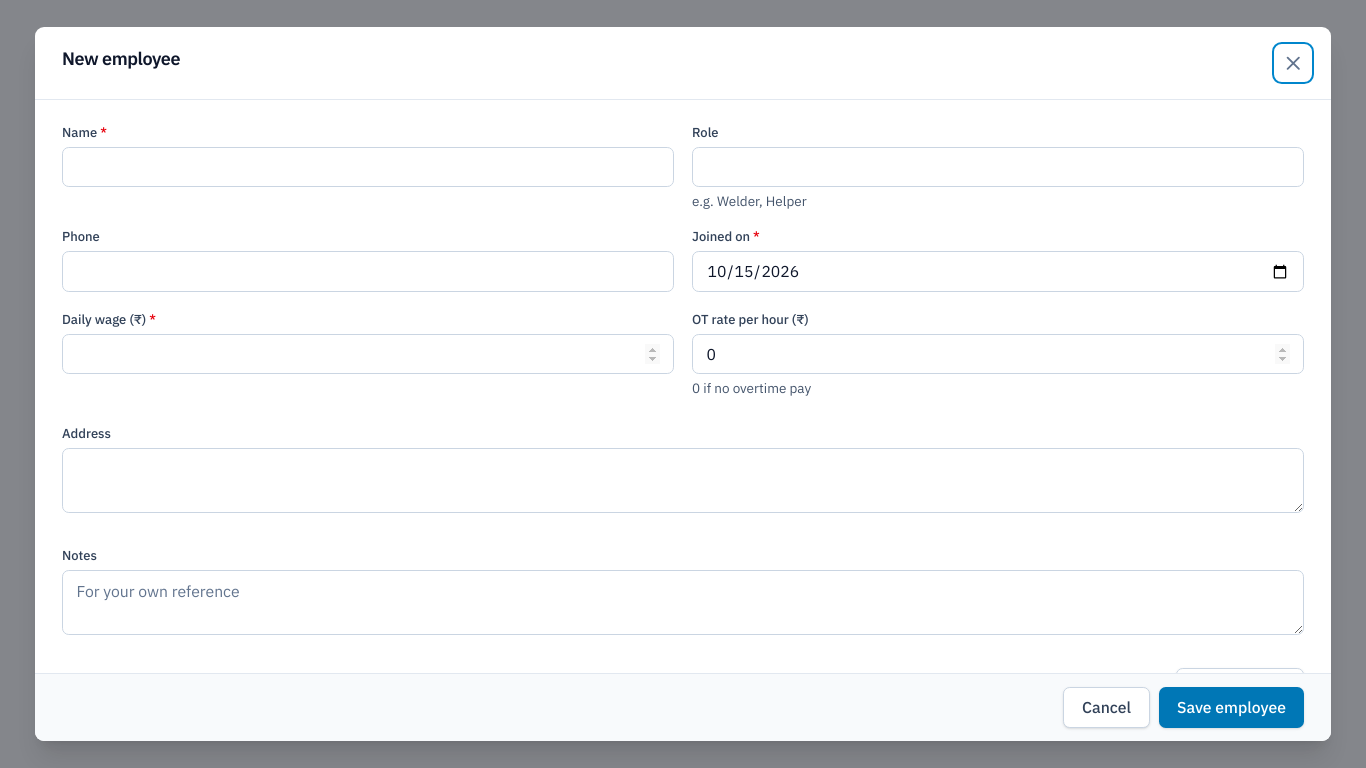
Test: a new employee › refuses {"joined":""}
The image size is (1366, 768).
Step 1. Type "Ravi" into the field labelled "Name" → (368, 167), box [62,146,674,187]
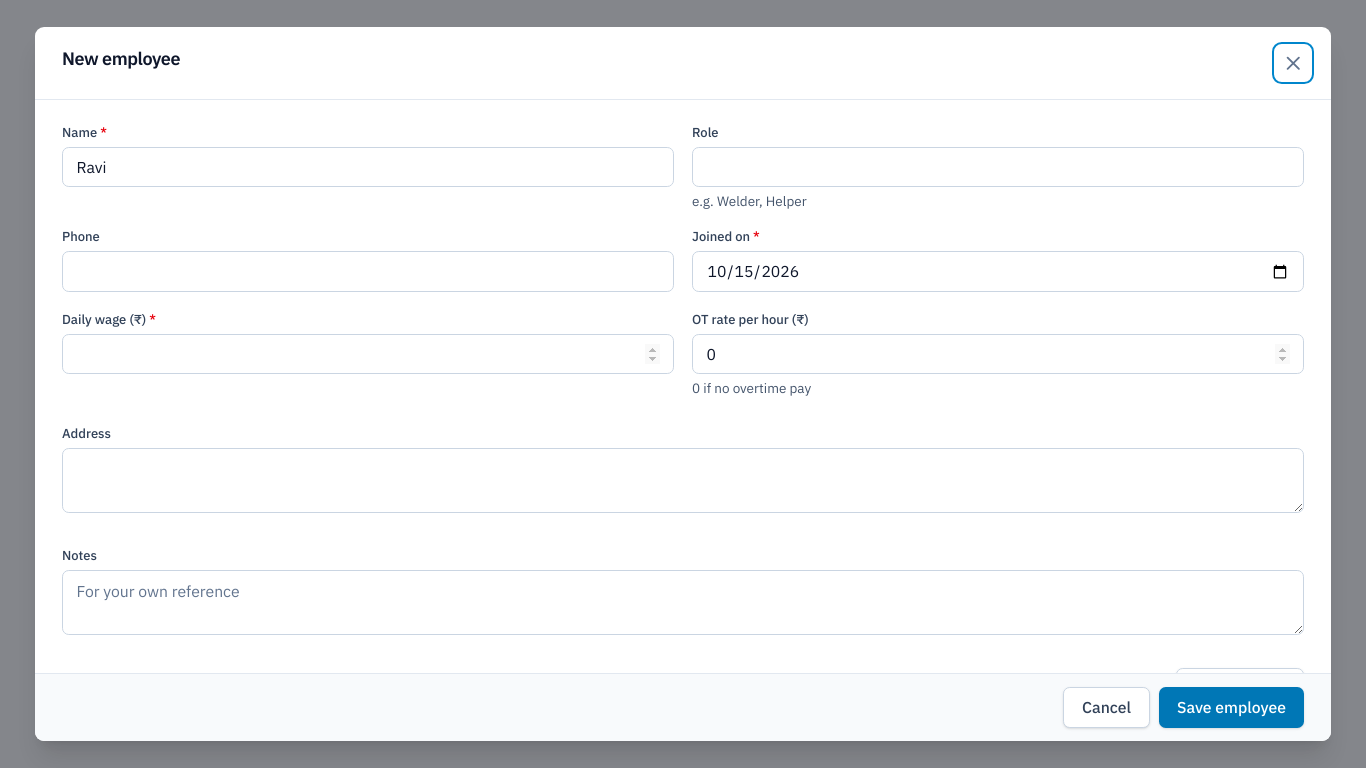
Step 2. Clear the date field labelled "Joined on" → (998, 272), box [692,252,1304,292]
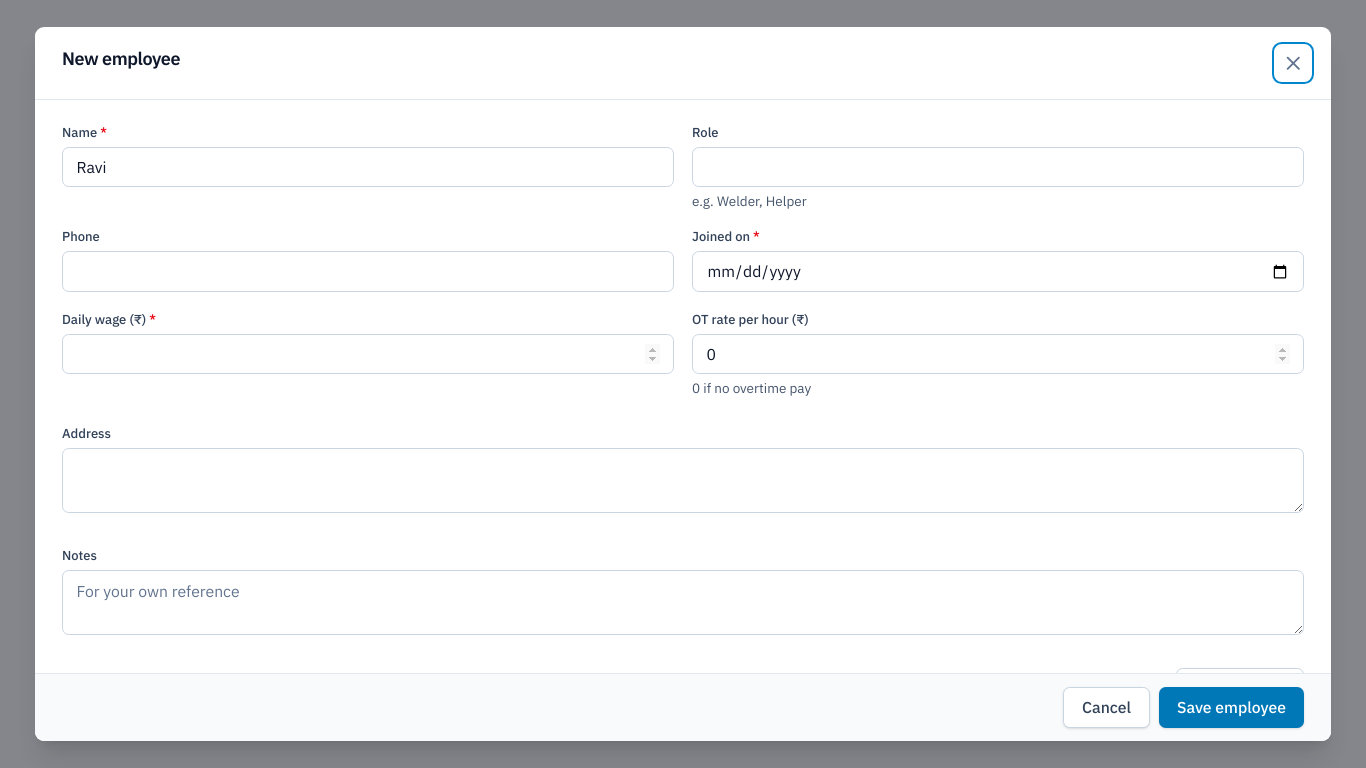
Step 3. Type "650" into the number field labelled "Daily wage" → (368, 354), box [62,334,674,374]
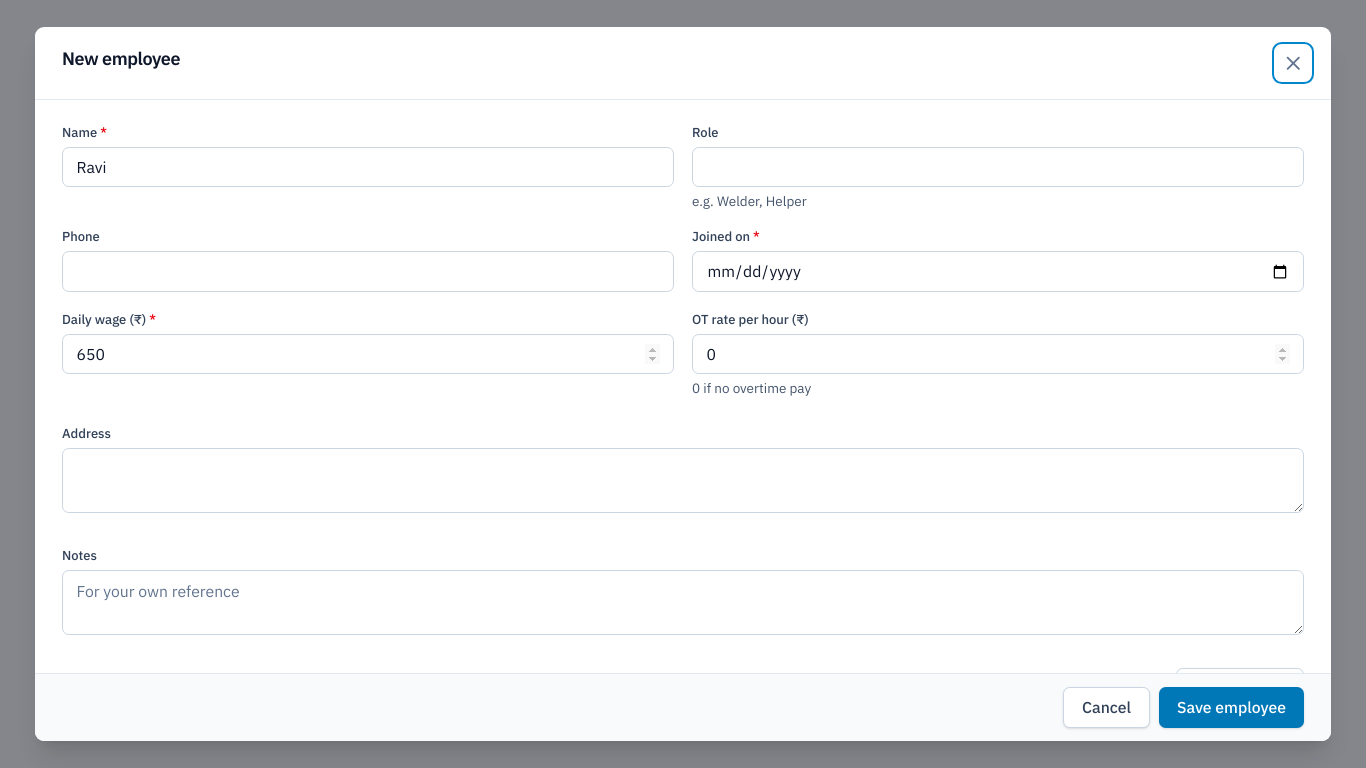
Step 4. Click the button "Save employee" → (1232, 707), box [1159,687,1304,728]
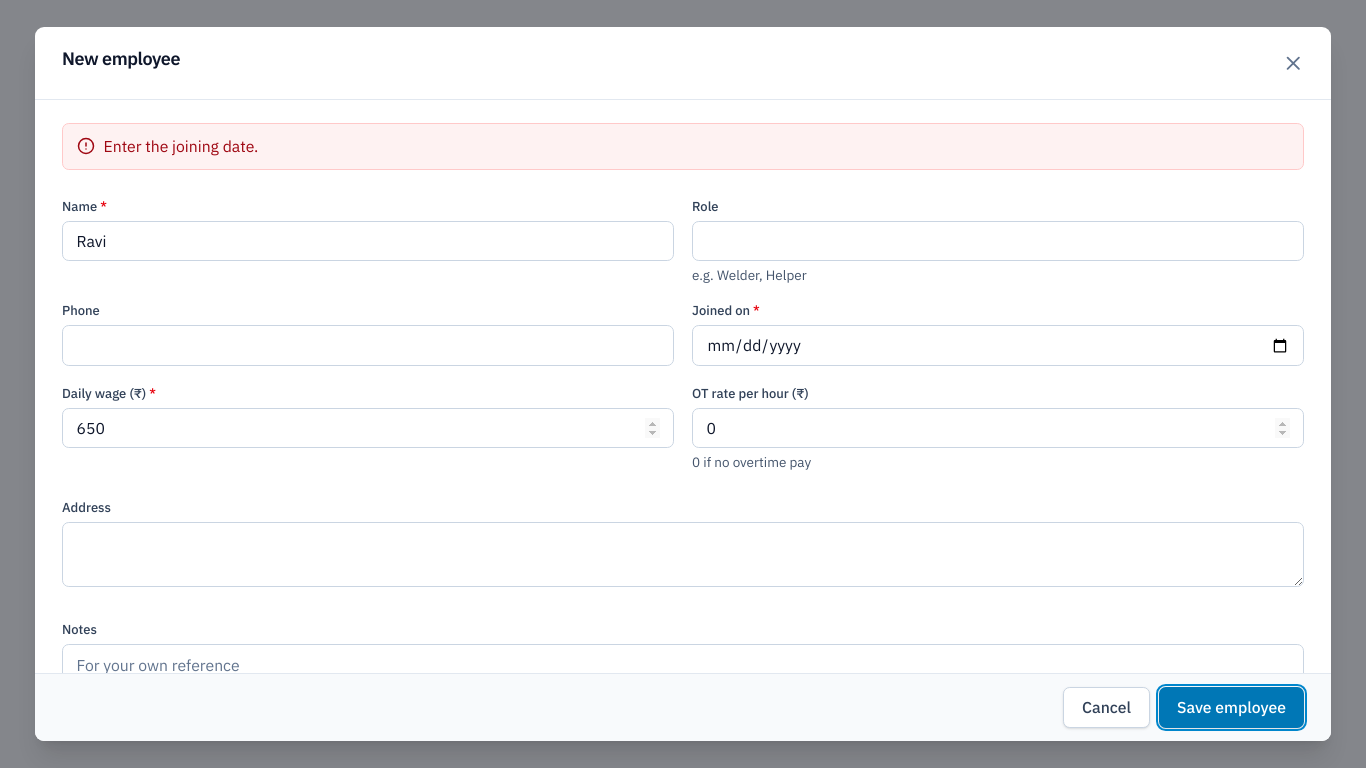
Now the message reads "Enter the joining date.", box [104,136,258,156]
